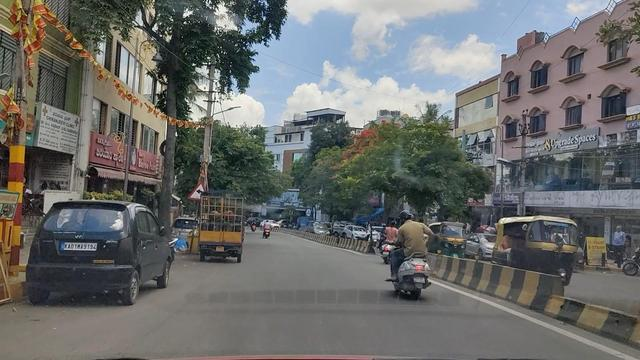LMV: (29, 212, 158, 292), (196, 196, 249, 262), (396, 214, 420, 290)
